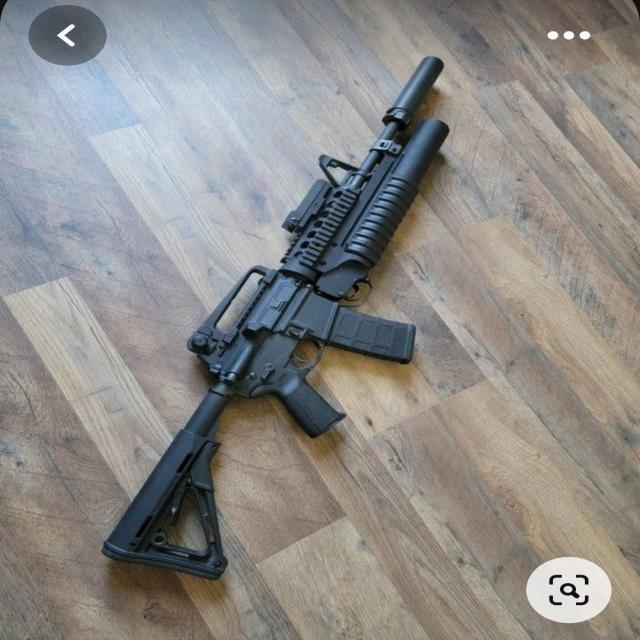m16: (97, 28, 500, 607), (132, 24, 484, 600)
